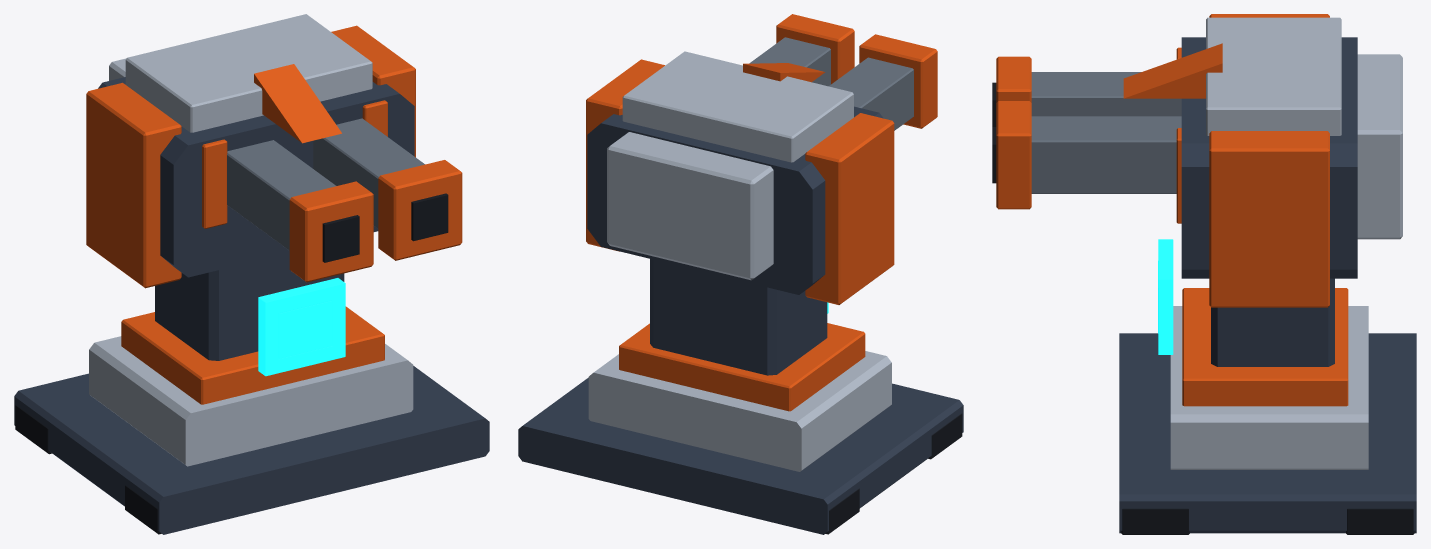
Rendered from intact.glb.
3 views of the same model, side by side, from view 1: azimuth 30°, elevation 25°; view 2: azimuth 150°, elevation 25°; view 3: azimuth 270°, elevation 25° (orthographic). The views are drawn at different scales.
Parts seen in each view (by area): view 1: ROLE_primary, ROLE_accent, ROLE_secondary, ROLE_bareMetal, ROLE_interaction, ROLE_rubber; view 2: ROLE_secondary, ROLE_primary, ROLE_accent, ROLE_bareMetal, ROLE_rubber; view 3: ROLE_primary, ROLE_accent, ROLE_secondary, ROLE_bareMetal, ROLE_rubber, ROLE_interaction.
Boxes of the visible parts, bbox=[...] form: ROLE_primary: bbox=[14, 77, 489, 534]; ROLE_accent: bbox=[86, 25, 462, 404]; ROLE_secondary: bbox=[89, 14, 413, 466]; ROLE_bareMetal: bbox=[227, 118, 424, 250]; ROLE_interaction: bbox=[258, 278, 345, 376]; ROLE_rubber: bbox=[15, 193, 448, 534]; ROLE_secondary: bbox=[588, 51, 891, 471]; ROLE_primary: bbox=[518, 106, 963, 534]; ROLE_accent: bbox=[586, 14, 937, 411]; ROLE_bareMetal: bbox=[749, 37, 913, 130]; ROLE_rubber: bbox=[825, 413, 962, 534]; ROLE_primary: bbox=[1119, 37, 1416, 533]; ROLE_accent: bbox=[996, 14, 1348, 406]; ROLE_secondary: bbox=[1170, 17, 1402, 469]; ROLE_bareMetal: bbox=[1031, 72, 1181, 193]; ROLE_rubber: bbox=[992, 82, 1414, 534]; ROLE_interaction: bbox=[1158, 239, 1173, 354].
Bounding box in the file's own units: 4.8 × 5.4 × 5.2.
